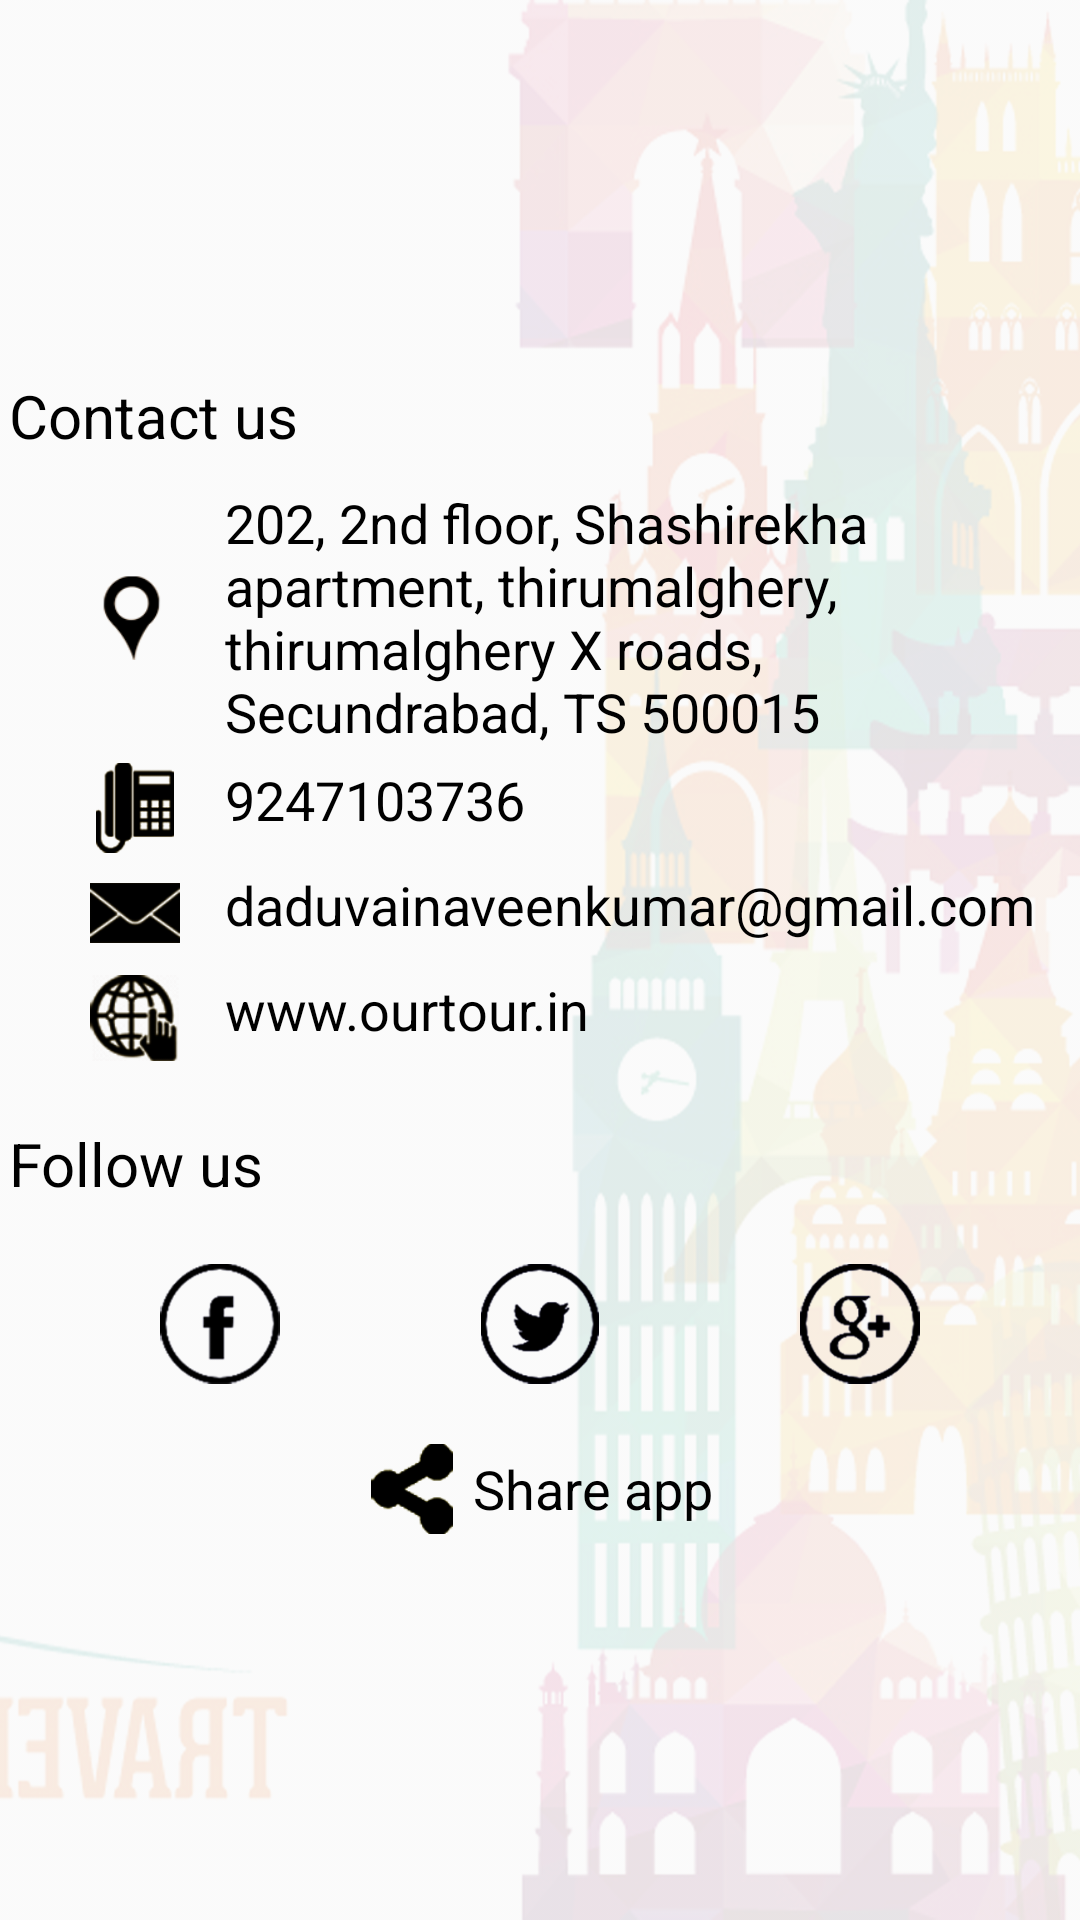

Locate icon controls on the screen. Image size 1080×1920, boxes as (x1, y1, x2, y2).
address: (103, 576, 160, 660)
phone: (96, 763, 174, 853)
website: (90, 975, 178, 1061)
